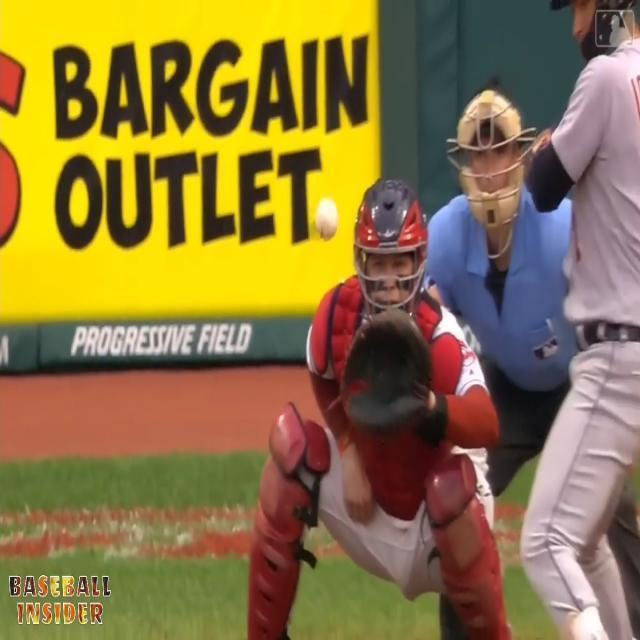ball: (312, 196, 340, 242)
